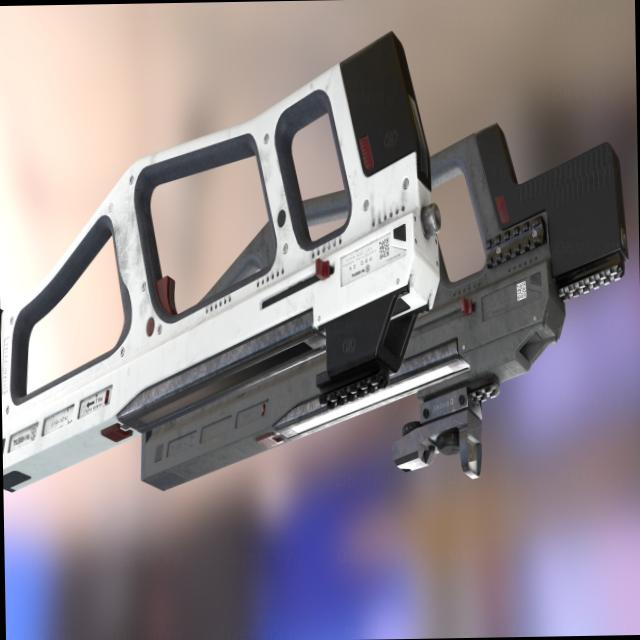Gun: (0, 0, 612, 513)
